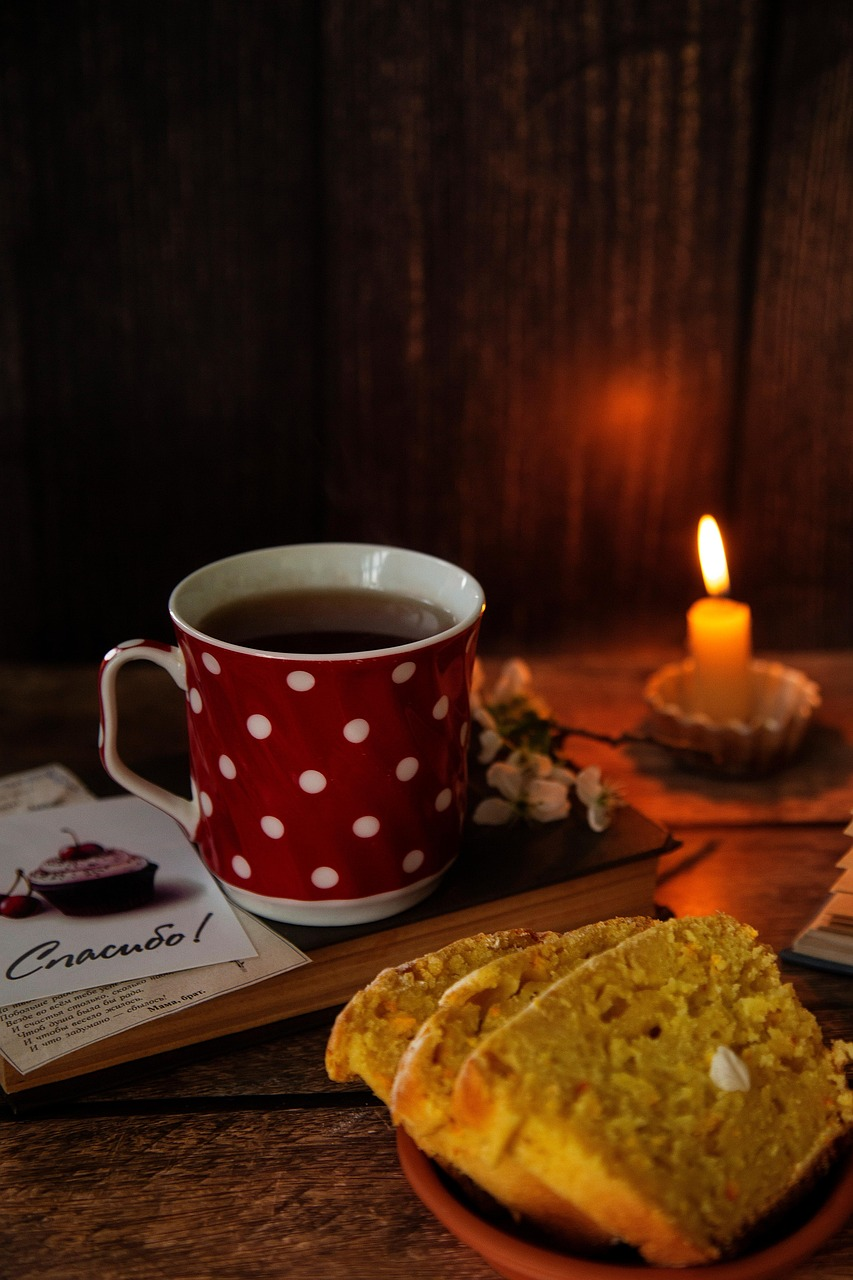mug: (1, 516, 563, 1007)
